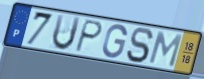7: (25, 10, 55, 47)
G: (101, 23, 129, 60)
M: (147, 30, 184, 69)
P: (73, 18, 104, 54)
S: (125, 27, 156, 65)
U: (51, 13, 83, 52)
